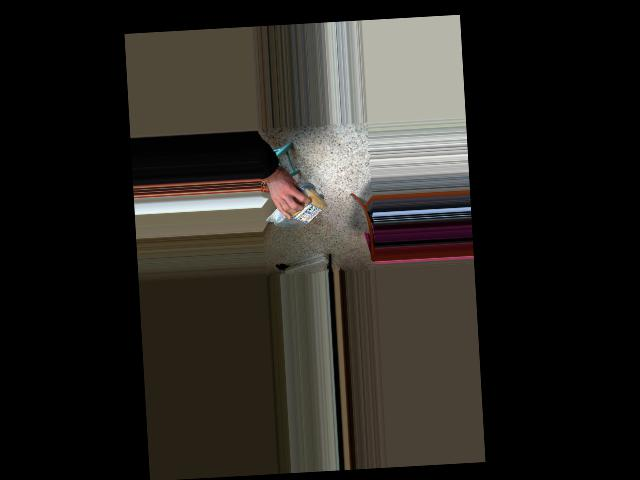cheese: (264, 192, 335, 226)
